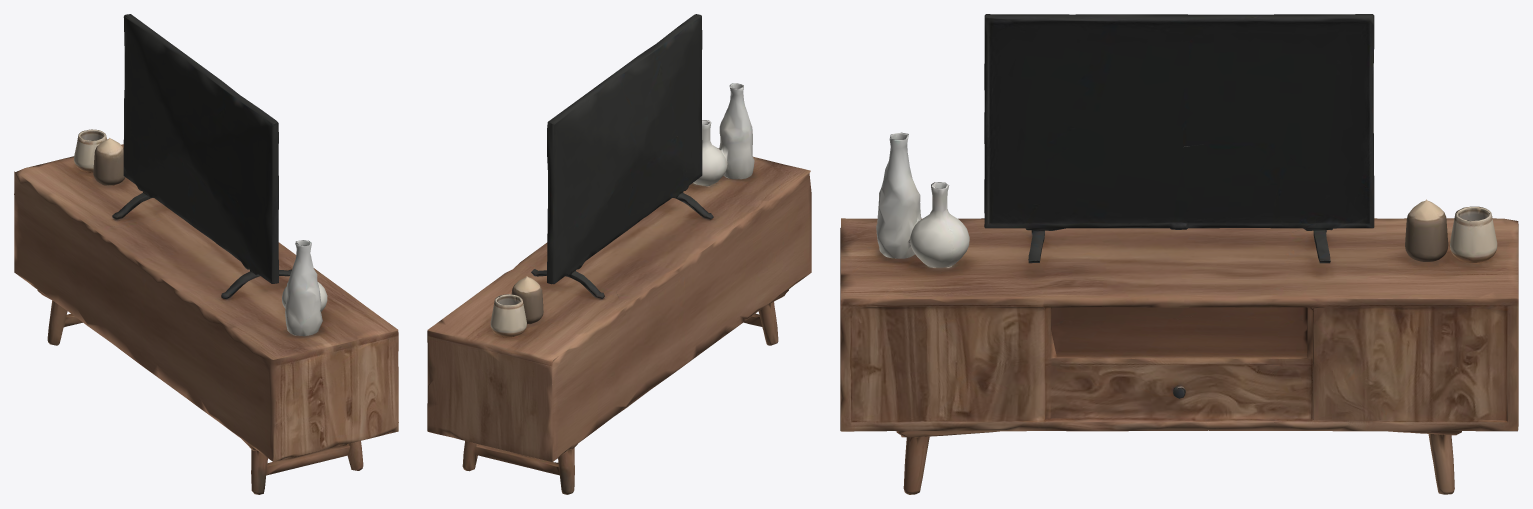
Rendered from tv_unit.glb.
The picture shows the model from 3 angles, left to right: view 1: azimuth 30°, elevation 25°; view 2: azimuth 150°, elevation 25°; view 3: azimuth 270°, elevation 25°; orthographic projection. The views are drawn at different scales.
Visible parts, largest first — view 1: tripo_node_4cf445d8-8663-4528-95e7-d4719af2e506; view 2: tripo_node_4cf445d8-8663-4528-95e7-d4719af2e506; view 3: tripo_node_4cf445d8-8663-4528-95e7-d4719af2e506.
Part boxes in pixels (x1,y1,x2,y2): tripo_node_4cf445d8-8663-4528-95e7-d4719af2e506: [14, 14, 398, 494]; tripo_node_4cf445d8-8663-4528-95e7-d4719af2e506: [427, 14, 811, 494]; tripo_node_4cf445d8-8663-4528-95e7-d4719af2e506: [840, 14, 1518, 494].
Bounding box in the file's own units: 0.2803 × 0.7219 × 1.
1 material, 1 textured.
